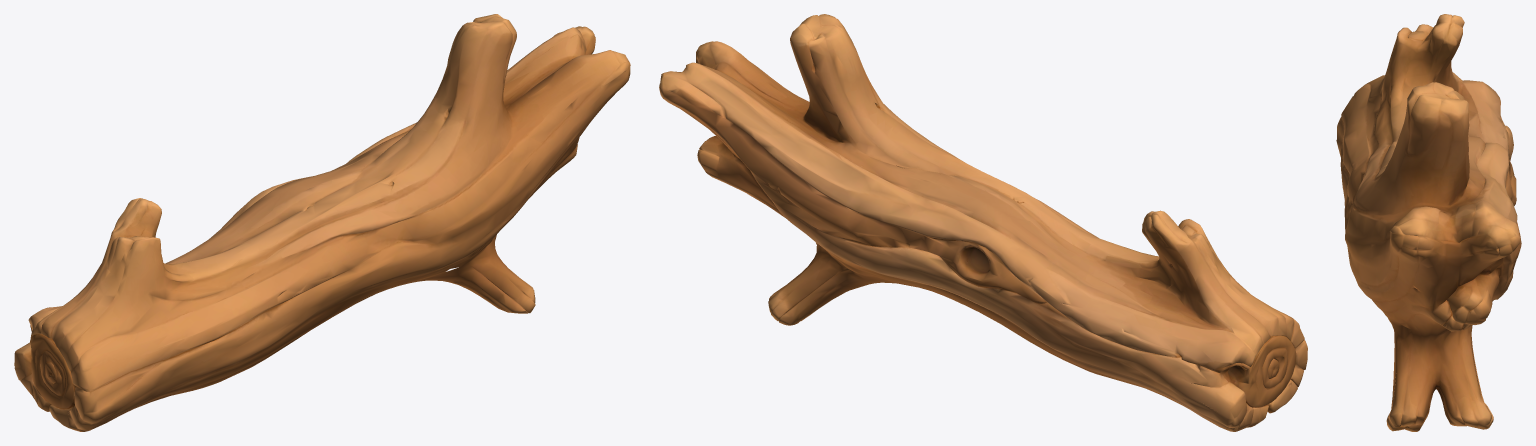
Rendered from log_branch.glb.
3 views of the same model, side by side, from view 1: azimuth 30°, elevation 25°; view 2: azimuth 150°, elevation 25°; view 3: azimuth 270°, elevation 25° (orthographic). The views are drawn at different scales.
Visible parts, largest first — view 1: tripo_node_833eab30-f15b-4617-af9c-48aab80c81a3; view 2: tripo_node_833eab30-f15b-4617-af9c-48aab80c81a3; view 3: tripo_node_833eab30-f15b-4617-af9c-48aab80c81a3.
Part boxes in pixels (x1,y1,x2,y2): tripo_node_833eab30-f15b-4617-af9c-48aab80c81a3: (14, 14, 630, 431); tripo_node_833eab30-f15b-4617-af9c-48aab80c81a3: (659, 14, 1307, 431); tripo_node_833eab30-f15b-4617-af9c-48aab80c81a3: (1336, 14, 1521, 431).
Size of the model in its own units: 1.45 by 0.7001 by 0.3517.
1 material, 1 textured.
